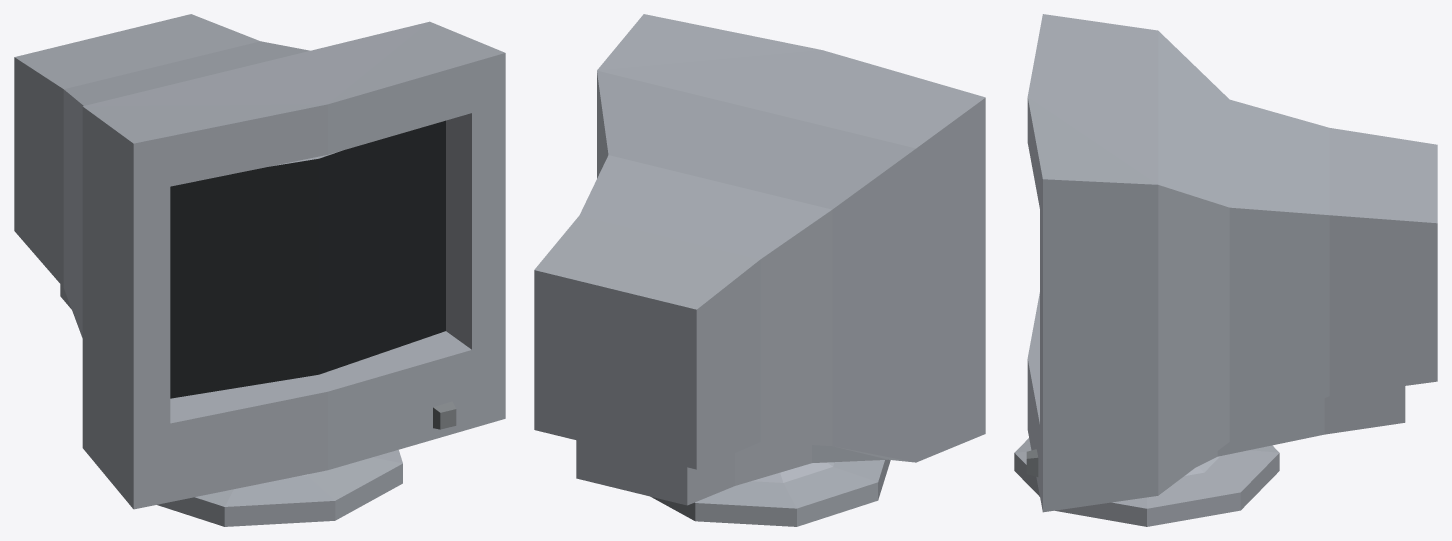
Rendered from SM_Prop_Electronics_Screen_01.glb.
3 views of the same model, side by side, from view 1: azimuth 30°, elevation 25°; view 2: azimuth 150°, elevation 25°; view 3: azimuth 270°, elevation 25° (orthographic). The views are drawn at different scales.
Visible parts, largest first — view 1: SM_Prop_Electronics_Screen_01; view 2: SM_Prop_Electronics_Screen_01; view 3: SM_Prop_Electronics_Screen_01.
Boxes of the visible parts, box(x1,y1,x2,y2) form: SM_Prop_Electronics_Screen_01: box(14, 14, 505, 526); SM_Prop_Electronics_Screen_01: box(534, 14, 985, 526); SM_Prop_Electronics_Screen_01: box(1014, 14, 1437, 526).
Bounding box in the file's own units: 0.7305 × 0.7716 × 0.7904.
1 material, 1 textured.
